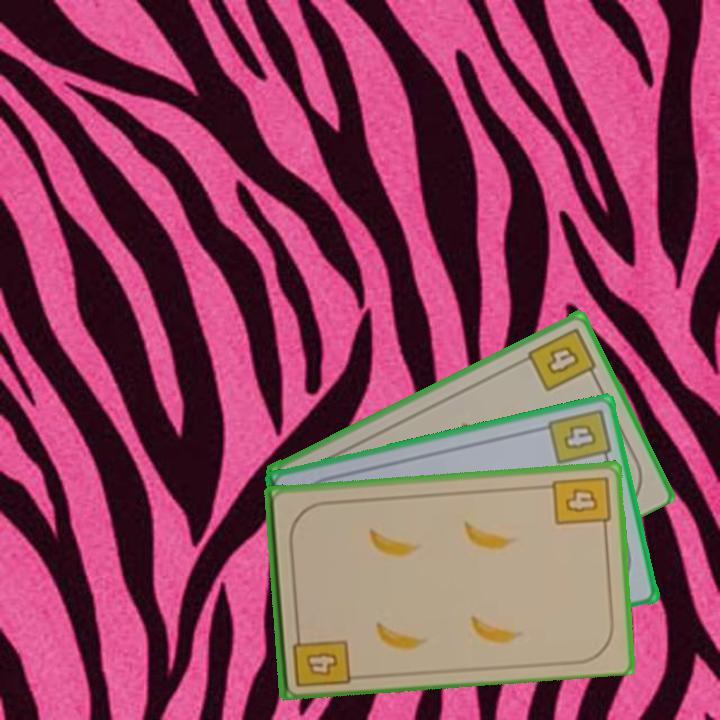4b: (524, 324, 601, 394), (544, 404, 614, 468), (288, 624, 352, 689), (549, 472, 613, 535)
